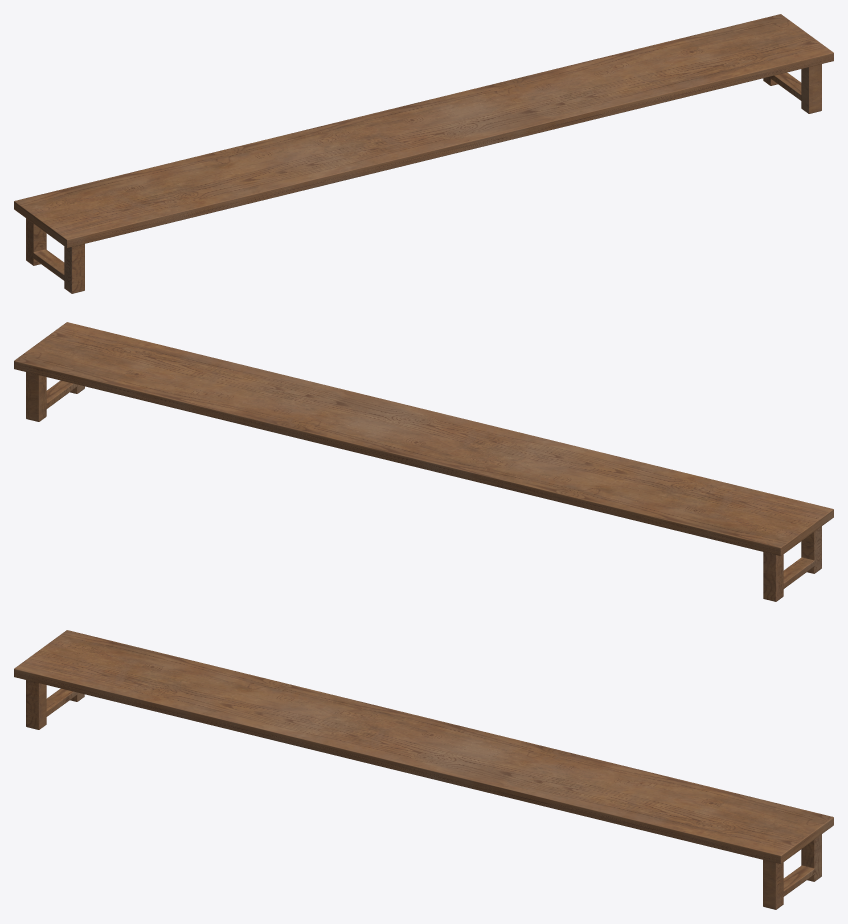
Rendered from longTable.glb.
3 views of the same model, one above another, from view 1: azimuth 30°, elevation 25°; view 2: azimuth 150°, elevation 25°; view 3: azimuth 330°, elevation 25° (orthographic).
Visible parts, largest first — view 1: pCube1; view 2: pCube1; view 3: pCube1.
Part boxes in pixels (left/top/right/bottom): pCube1: left=14, top=14, right=833, bottom=293; pCube1: left=14, top=322, right=833, bottom=601; pCube1: left=14, top=630, right=833, bottom=909.
Bounding box in the file's own units: 32.03 × 2.36 × 3.85.
Materials: 1 (1 with a texture image).
